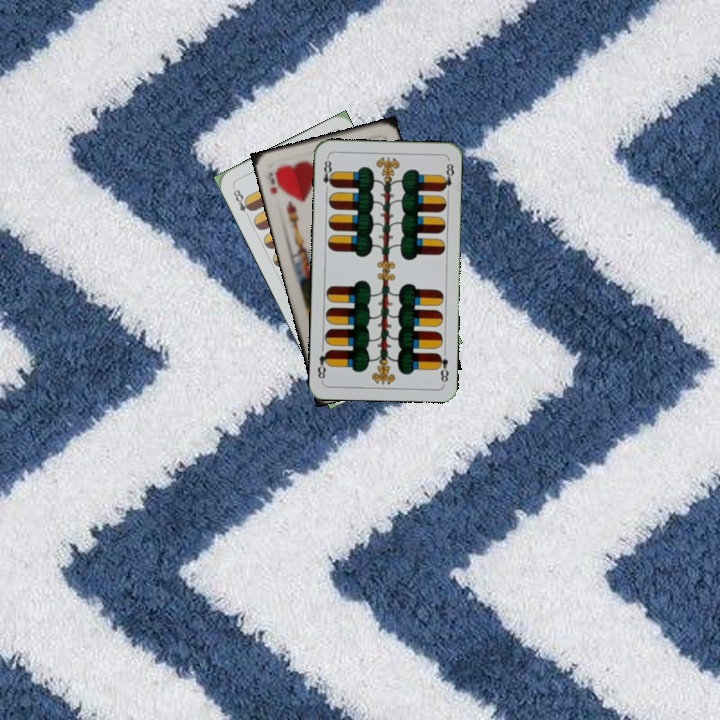E8: (229, 183, 255, 221), (319, 154, 336, 195), (433, 349, 451, 386)
HK: (265, 167, 285, 197)
